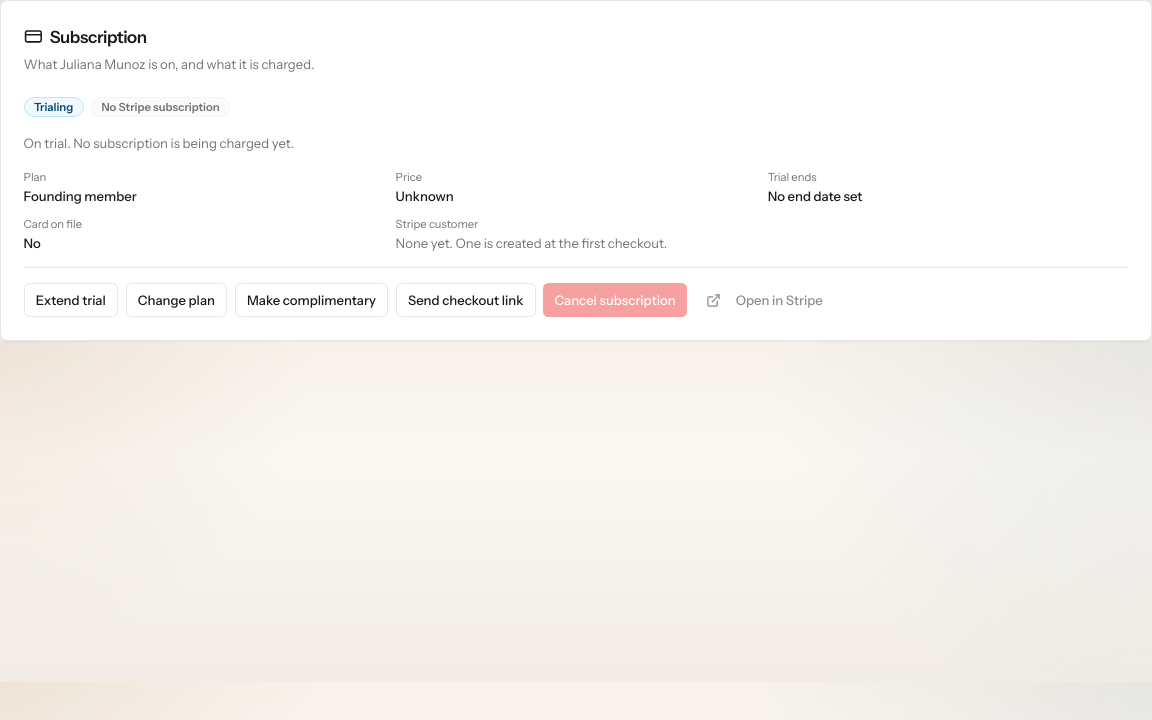
Test: WorkspaceSubscriptionStatus › opens a confirm dialog for an action
Click the button "Make complimentary" at (312, 300), box x1=235 y1=283 x2=388 y2=317
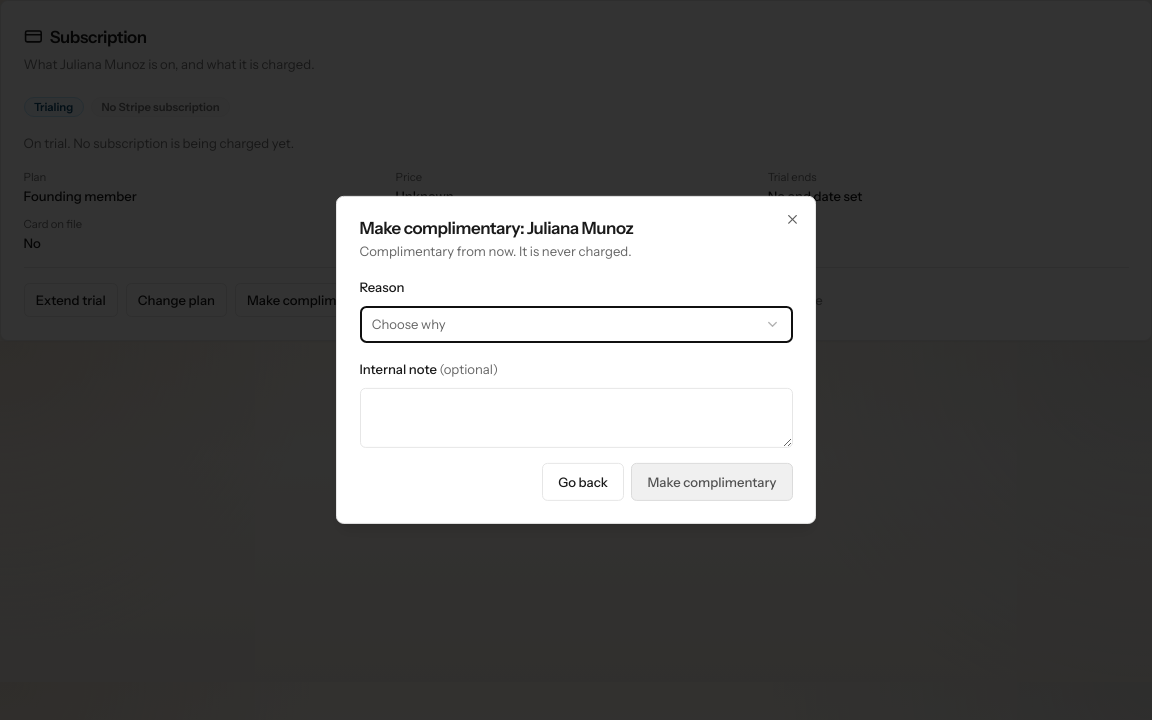
Expected: the dialog "Make complimentary: Juliana Munoz" is shown, x1=336 y1=196 x2=816 y2=524
